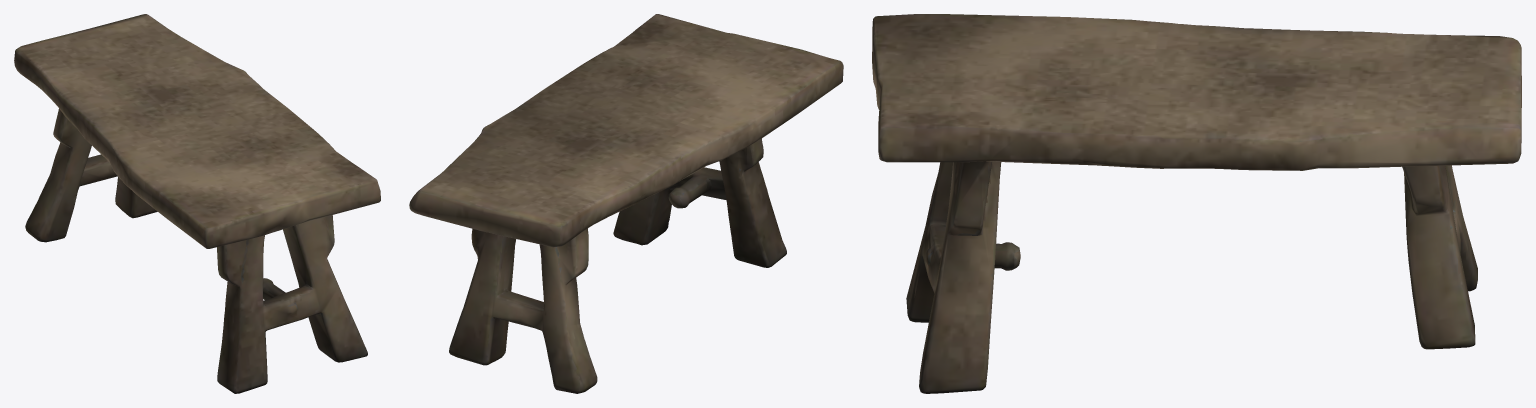
Rendered from sturdy-wood-banquet-table-v001.glb.
3 renders of one model, left to right at view 1: azimuth 30°, elevation 25°; view 2: azimuth 150°, elevation 25°; view 3: azimuth 270°, elevation 25°, orthographic. The views are drawn at different scales.
Parts seen in each view (by area): view 1: sturdy-wood-banquet-table; view 2: sturdy-wood-banquet-table; view 3: sturdy-wood-banquet-table.
Part boxes in pixels (x1,y1,x2,y2): sturdy-wood-banquet-table: [14, 14, 380, 393]; sturdy-wood-banquet-table: [409, 14, 843, 393]; sturdy-wood-banquet-table: [872, 14, 1521, 393].
Bounding box in the file's own units: 0.7927 × 0.7594 × 1.67.
Materials: 1 (1 with a texture image).
